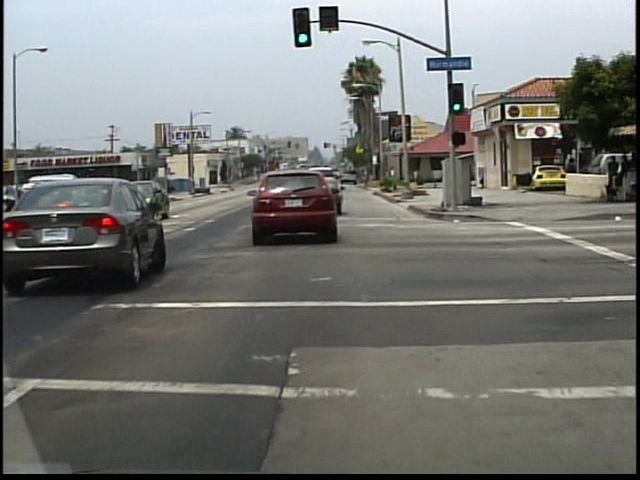person: (563, 155, 580, 196)
